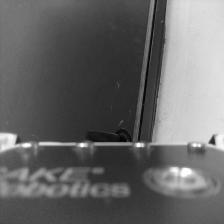Door Handle: (85, 130, 134, 143)
